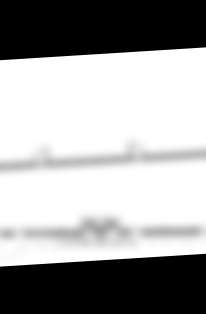door: (128, 140, 147, 162), (33, 146, 51, 169)
